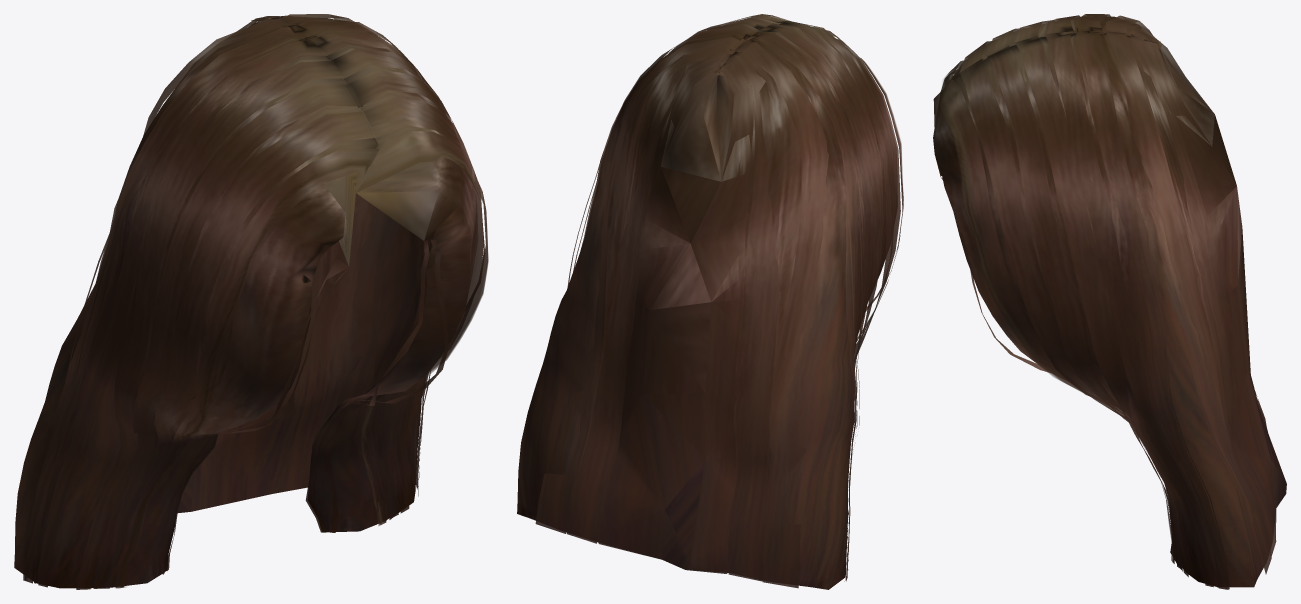
Rendered from medium-african.glb.
3 views of the same model, side by side, from view 1: azimuth 30°, elevation 25°; view 2: azimuth 150°, elevation 25°; view 3: azimuth 270°, elevation 25° (orthographic). The views are drawn at different scales.
Visible parts, largest first — view 1: hair_medium; view 2: hair_medium; view 3: hair_medium.
Boxes of the visible parts, x1,y1,x2,y2 form: hair_medium: [14, 14, 488, 589]; hair_medium: [517, 14, 903, 589]; hair_medium: [933, 14, 1286, 589].
Size of the model in its own units: 0.3107 by 0.4256 by 0.2842.
Materials: 1 (1 with a texture image).
